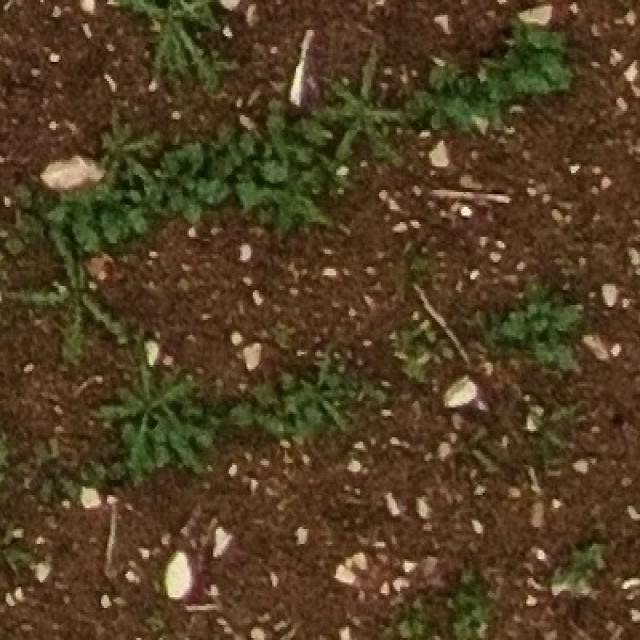cirse: (28, 222, 135, 362), (28, 211, 133, 352), (32, 224, 135, 361), (105, 342, 203, 456), (106, 328, 202, 441), (100, 337, 196, 448), (114, 0, 232, 89), (315, 52, 398, 175), (117, 1, 237, 86), (328, 55, 407, 183), (322, 52, 399, 181), (117, 3, 234, 87), (285, 349, 344, 443), (300, 333, 356, 430), (83, 113, 150, 190), (296, 352, 352, 444), (90, 106, 155, 184), (87, 109, 150, 188)
